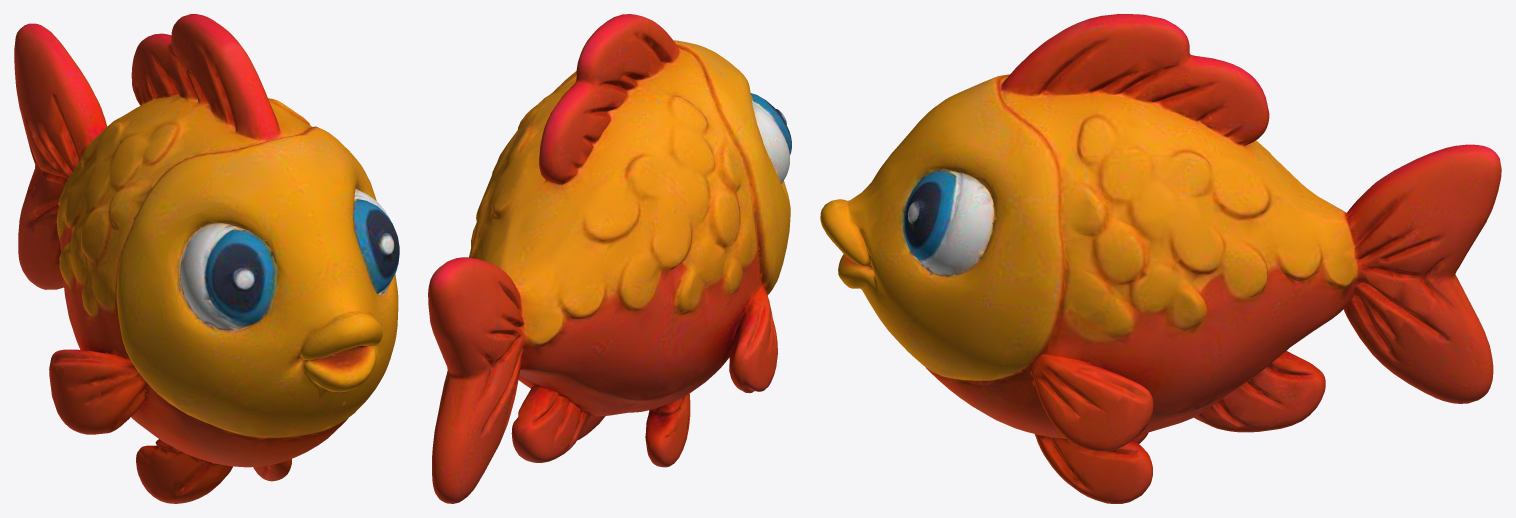
3 views of the same model, side by side, from view 1: azimuth 30°, elevation 25°; view 2: azimuth 150°, elevation 25°; view 3: azimuth 270°, elevation 25° (orthographic). The views are drawn at different scales.
Size of the model in its own units: 1 by 1.42 by 1.9.
1 material, 1 textured.
